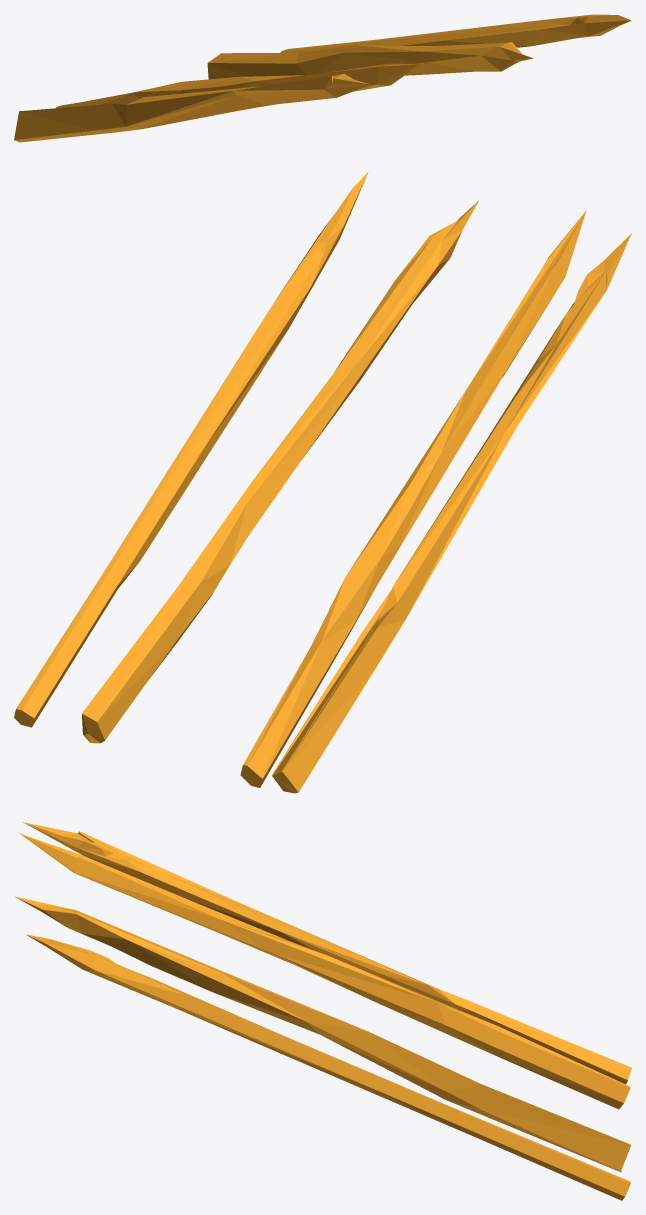
File: SM_Barricade_Directional_C.fbx
The picture shows the model from 3 angles, top to bottom: view 1: azimuth 30°, elevation 25°; view 2: azimuth 150°, elevation 25°; view 3: azimuth 270°, elevation 25°; orthographic projection. The views are drawn at different scales.
Visible parts, largest first — view 1: barricade-directional-c; view 2: barricade-directional-c; view 3: barricade-directional-c.
Part boxes in pixels (<box>): barricade-directional-c: <box>14,14,631,142</box>; barricade-directional-c: <box>14,172,631,793</box>; barricade-directional-c: <box>15,822,631,1200</box>.
Size of the model in its own units: 2.37 by 2.58 by 5.15.
